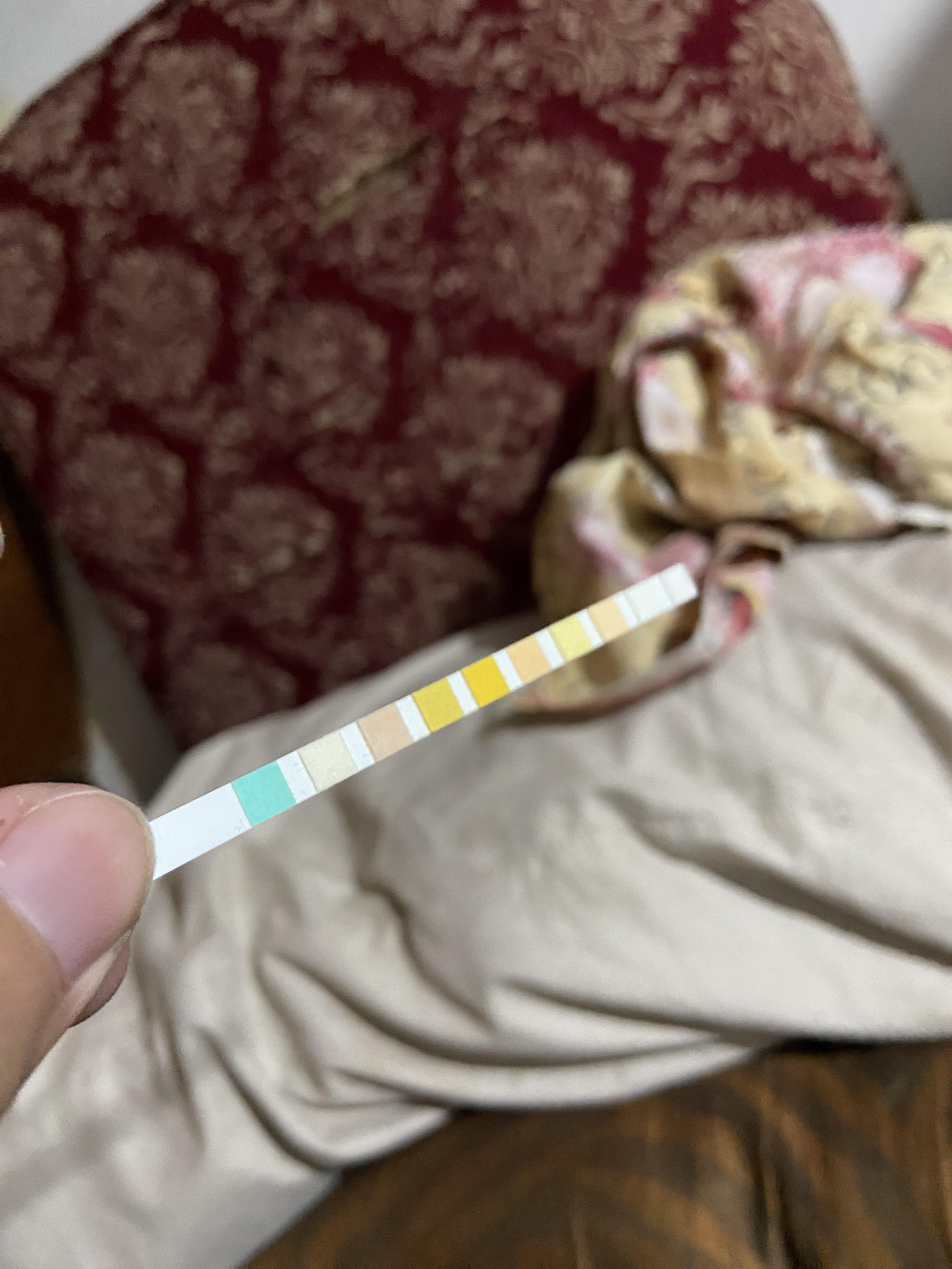Bilirubin: (310, 744, 346, 779)
Blood: (475, 664, 500, 699)
Glucose: (246, 778, 284, 810)
Ketone: (373, 716, 403, 750)
Leukocytes: (668, 571, 689, 597)
Nitrite: (635, 587, 656, 614)
Protein: (562, 622, 585, 655)
SpGravity: (424, 689, 452, 722)
Urobilinogen: (600, 604, 621, 634)
pH: (518, 643, 541, 676)
strip: (153, 563, 700, 870)
